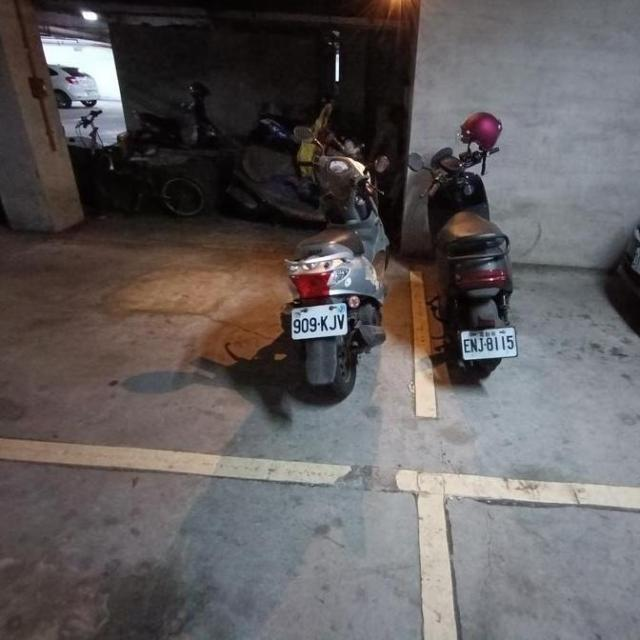W: (286, 294, 351, 345), (456, 319, 518, 364), (626, 242, 640, 284)
